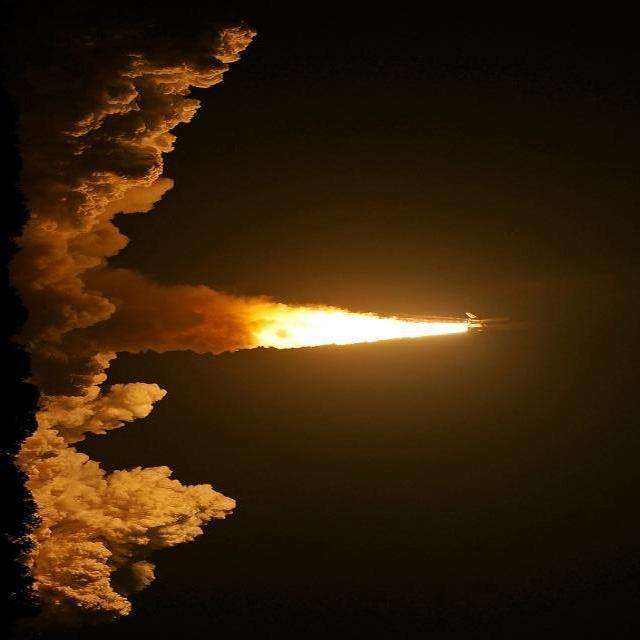missile: (460, 308, 528, 333)
